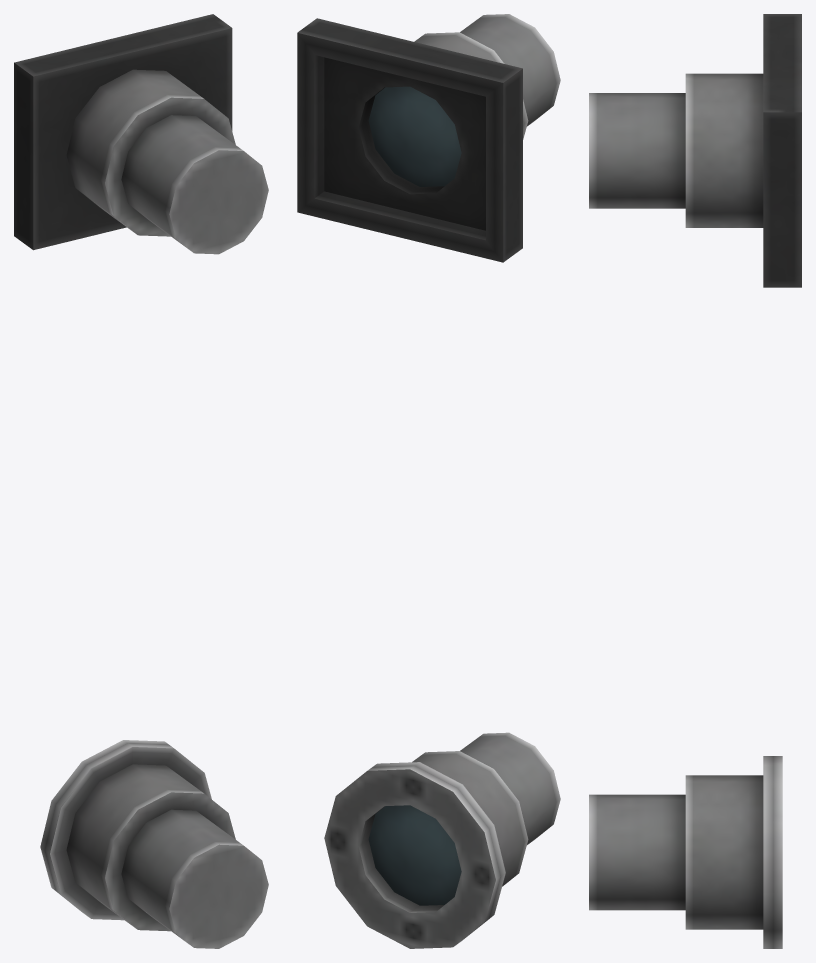
The model's file is ye8_visible_light_camera_srf_1.obj.
3 renders of one model, left to right at view 1: azimuth 30°, elevation 25°; view 2: azimuth 150°, elevation 25°; view 3: azimuth 270°, elevation 25°, orthographic. The views are drawn at different scales.
Visible parts, largest first — view 1: 1; view 2: 1, w1, W1; view 3: 1.
Boxes of the visible parts, x1,y1,x2,y2 form: 1: [14, 14, 268, 948]; 1: [297, 14, 560, 948]; w1: [368, 805, 461, 905]; W1: [368, 86, 461, 186]; 1: [589, 14, 801, 948].
Size of the model in its own units: 0.15 by 0.625 by 0.1375.
2 materials, 2 textured.
